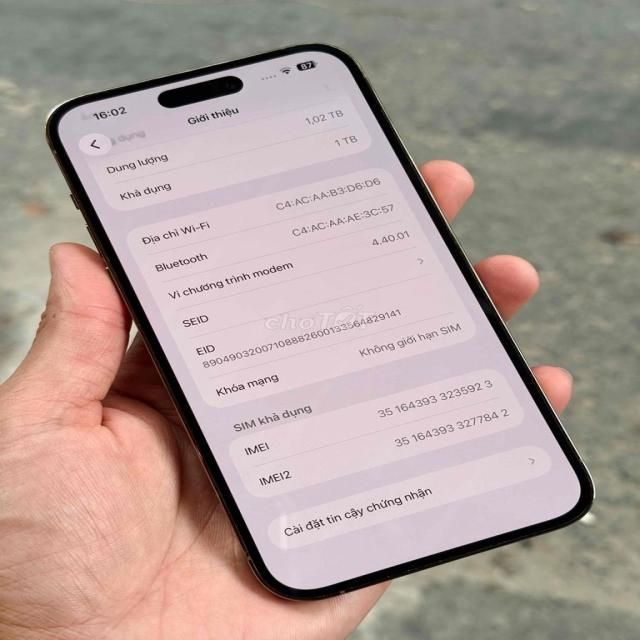gen_14: (33, 38, 598, 595)
